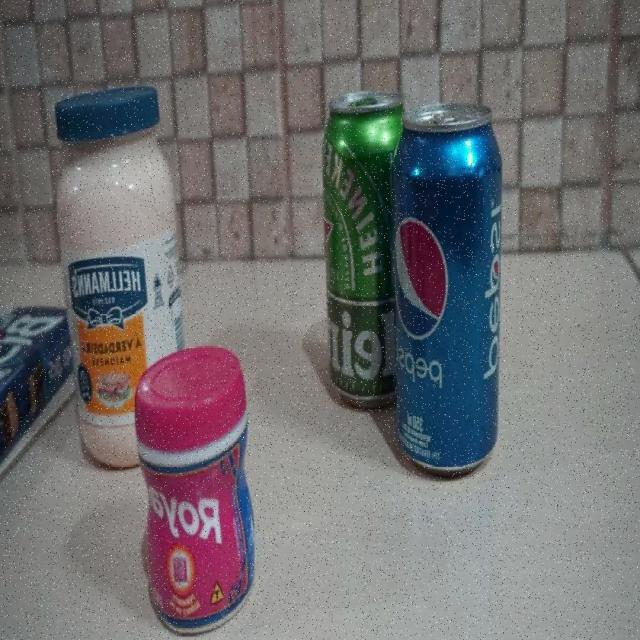BeerCan: (320, 88, 407, 411)
Mayonnaise: (53, 84, 187, 473)
SodaCan: (392, 101, 504, 482)
Yeast: (133, 344, 256, 637)
